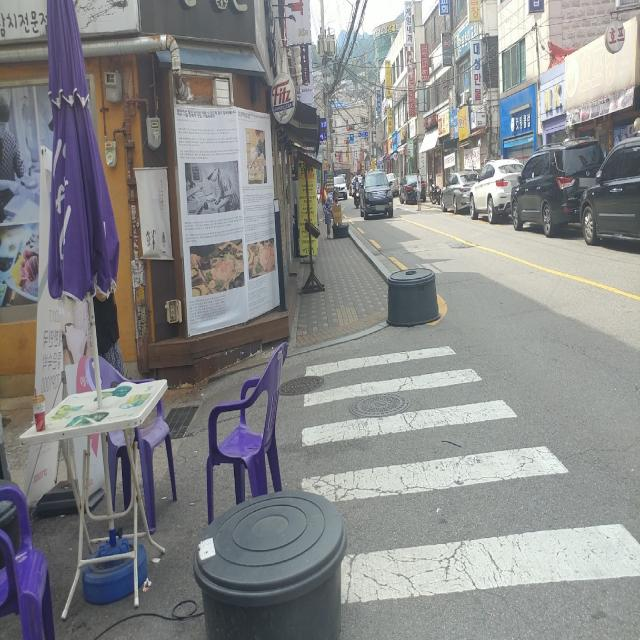횡단보도: (300, 343, 640, 605)
